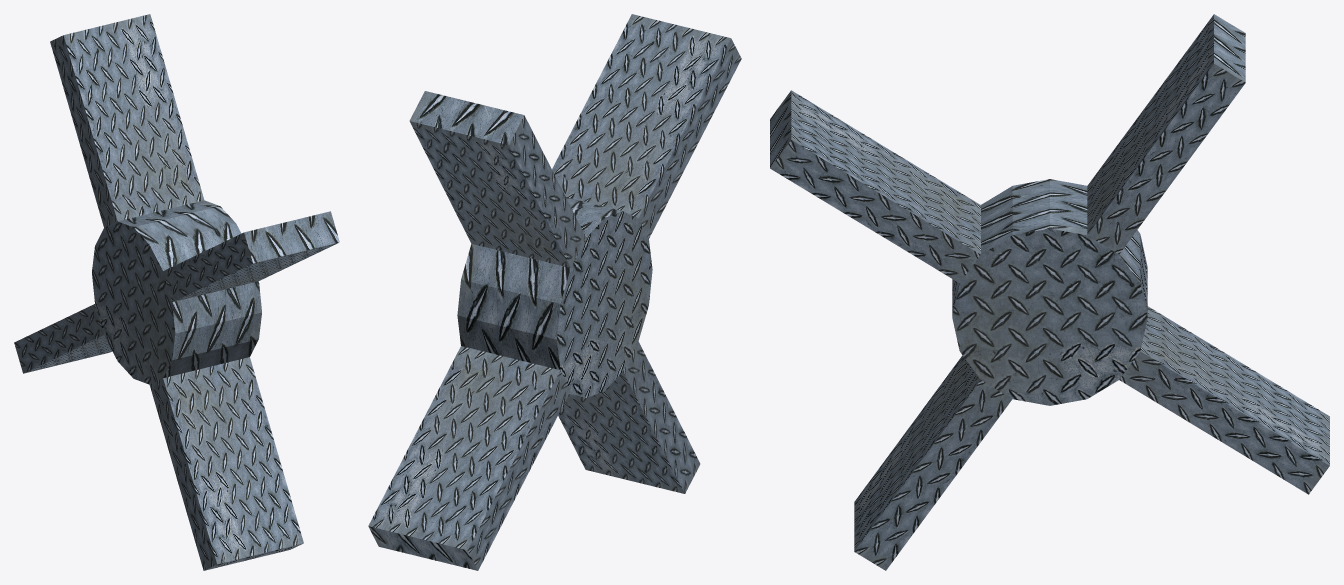
File: rotor.fbx
3 views of the same model, side by side, from view 1: azimuth 30°, elevation 25°; view 2: azimuth 150°, elevation 25°; view 3: azimuth 270°, elevation 25° (orthographic). The views are drawn at different scales.
Parts seen in each view (by area): view 1: Cylinder; view 2: Cylinder; view 3: Cylinder.
Boxes of the visible parts, x1,y1,x2,y2 form: Cylinder: (14,14,339,570); Cylinder: (368,14,741,570); Cylinder: (770,14,1329,570).
Size of the model in its own units: 240 by 1145 by 1145.
